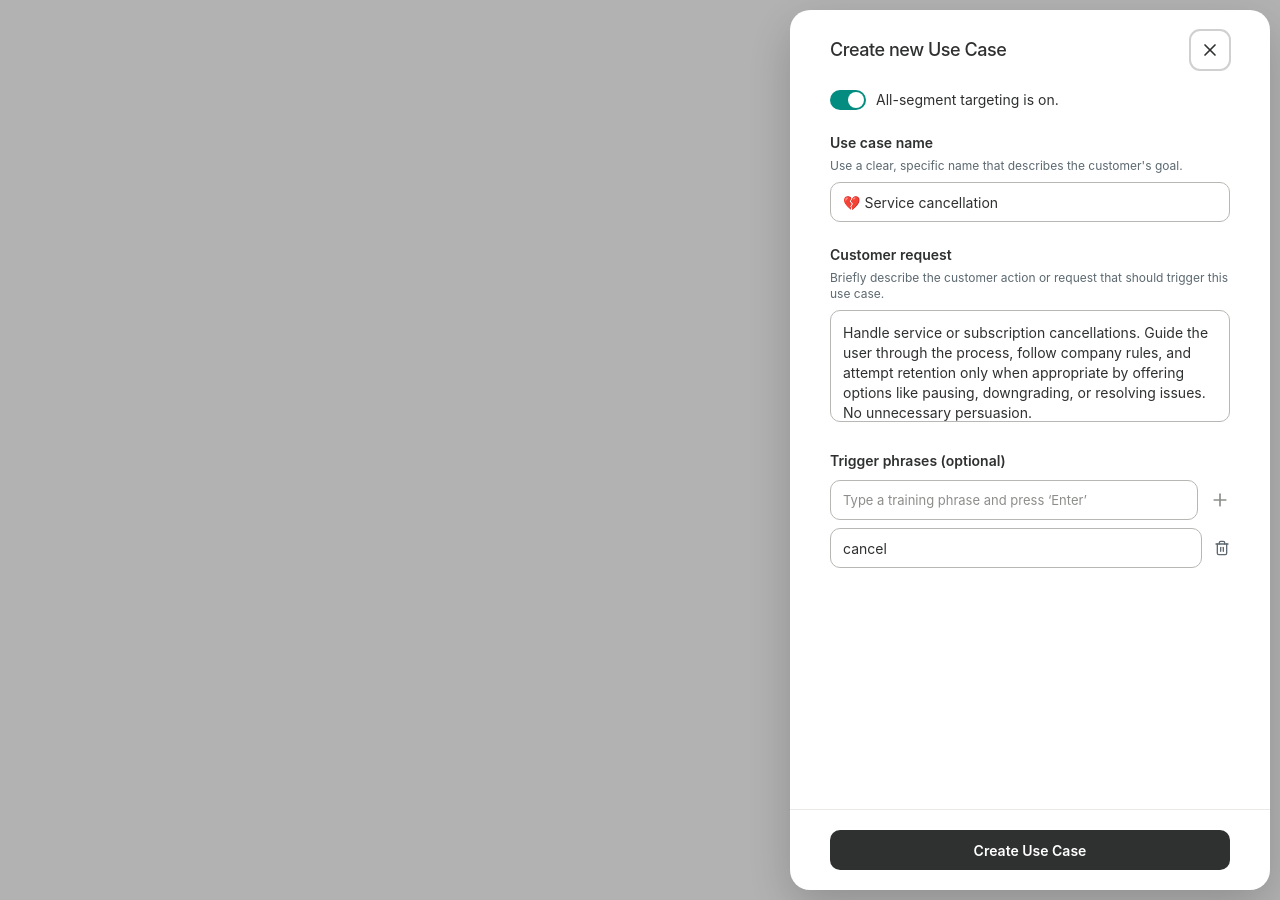
Test case: CreateAgentPanel › reveals segments when all-segment targeting is turned off
Click the switch named "All-segment targeting" at point(848, 100), box [830,90,866,110]
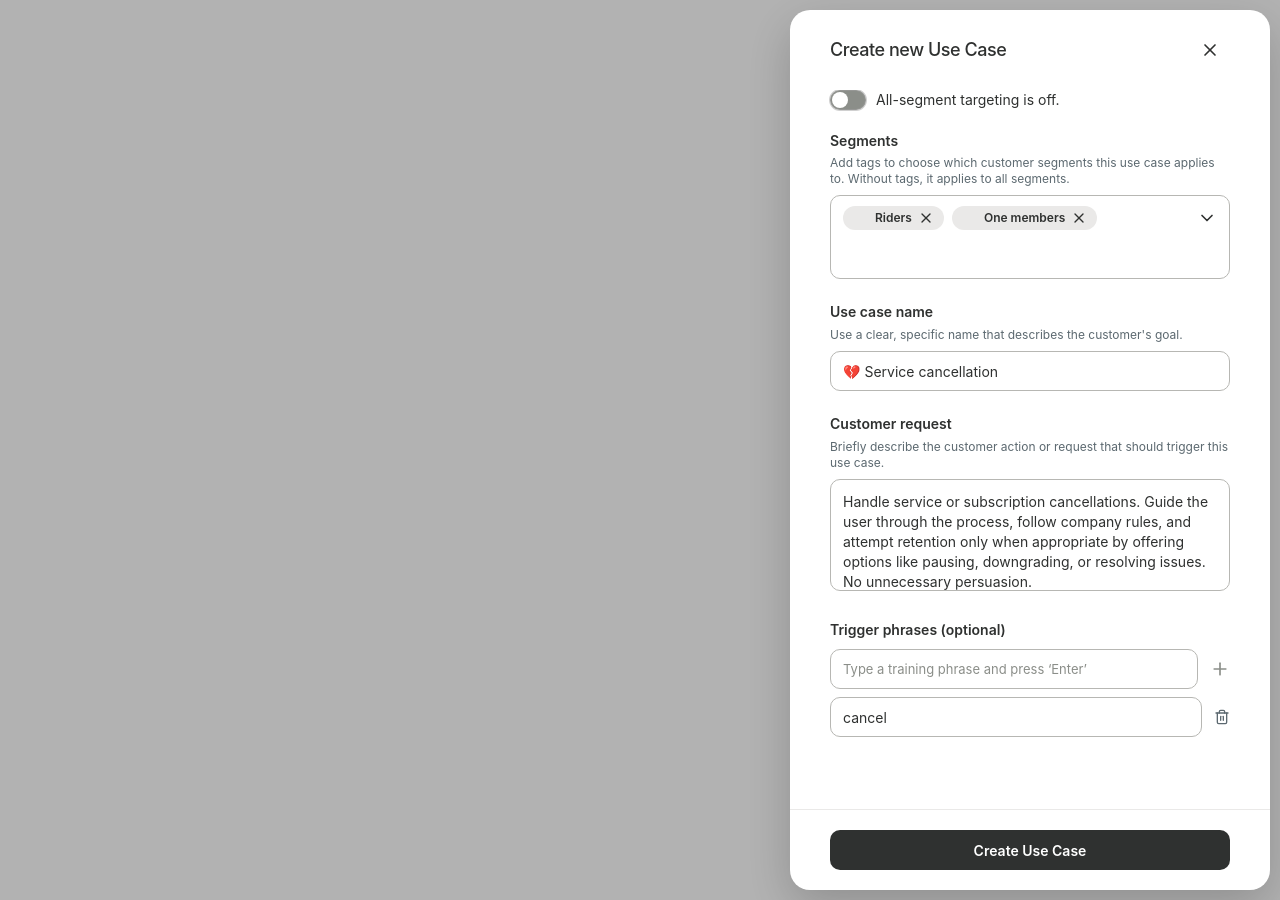
Result: the text "All-segment targeting is off." is shown at [876,90,1060,110]
Result: the element named "Segments" shows "Riders" at [875,210,912,225]
Result: the element named "Segments" shows "One members" at [984,210,1065,225]
